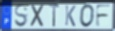F: (95, 4, 112, 28)
K: (65, 5, 77, 28)
O: (79, 4, 96, 29)
S: (14, 4, 29, 29)
T: (48, 4, 61, 28)
X: (31, 4, 46, 29)
